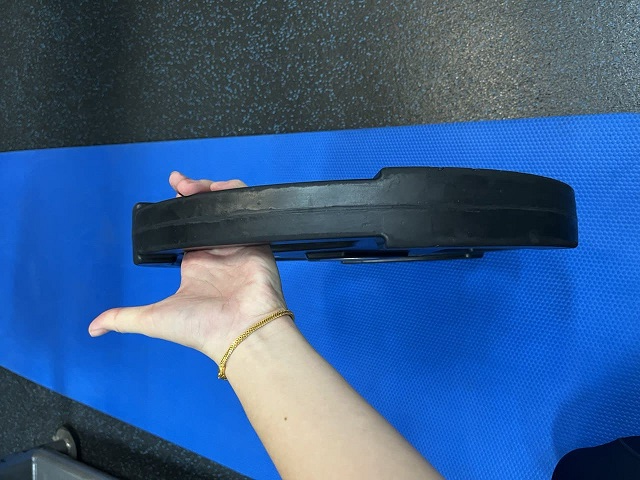weights: (131, 166, 578, 264)
